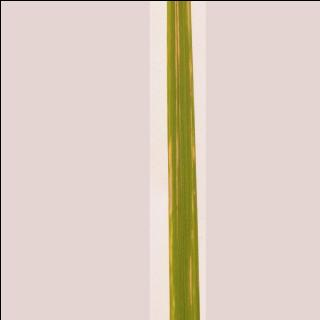Hawar-Daun: (162, 0, 199, 310)
